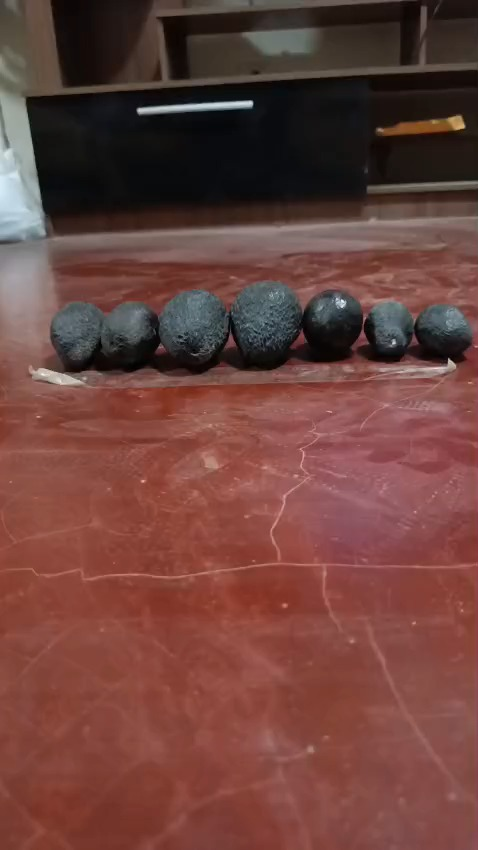Primera: (230, 280, 303, 367), (158, 289, 227, 368)
Segunda: (302, 288, 364, 360), (99, 301, 159, 369), (49, 300, 104, 370)
Tercera: (414, 302, 472, 359), (364, 300, 415, 359)
